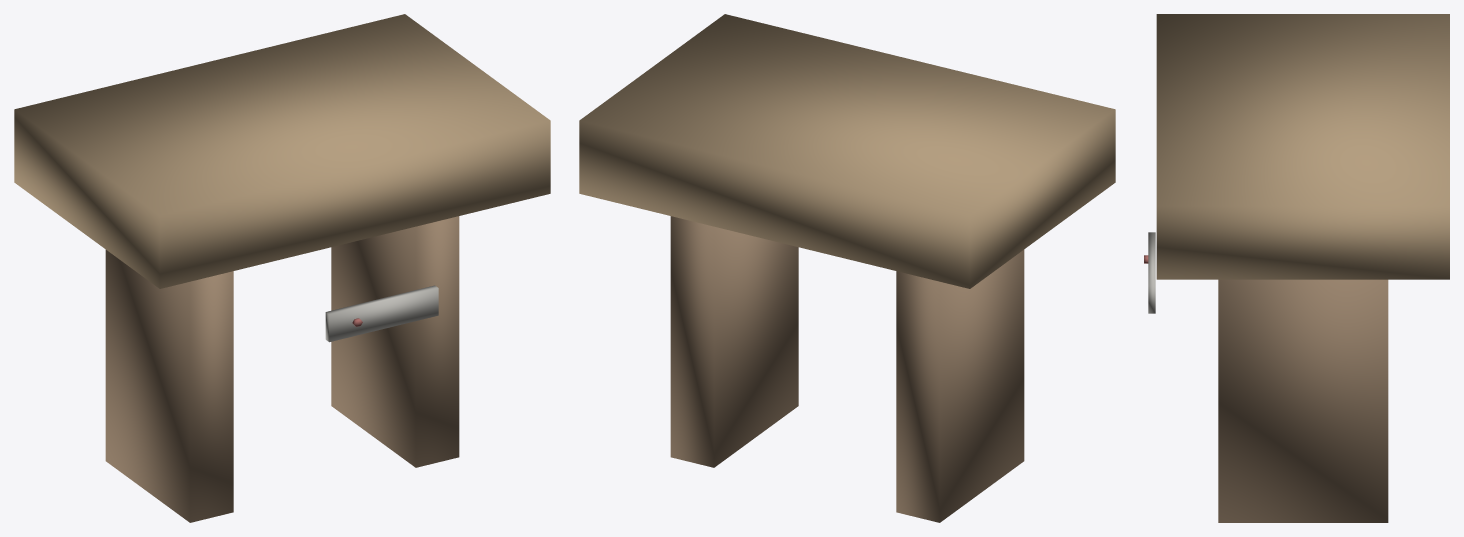
Rendered from butcher_block__wide.glb.
The picture shows the model from 3 angles, left to right: view 1: azimuth 30°, elevation 25°; view 2: azimuth 150°, elevation 25°; view 3: azimuth 270°, elevation 25°; orthographic projection.
Parts seen in each view (by area): view 1: world; view 2: world; view 3: world.
Part boxes in pixels (box(x1,y1,x2,y2)): world: box(14, 14, 550, 522); world: box(579, 14, 1115, 522); world: box(1144, 14, 1449, 522).
Size of the model in its own units: 1.12 by 0.94 by 0.751.
